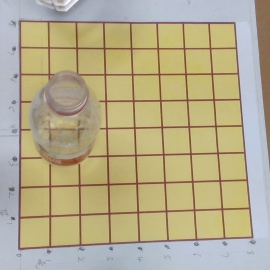bottle: (30, 70, 101, 171)
